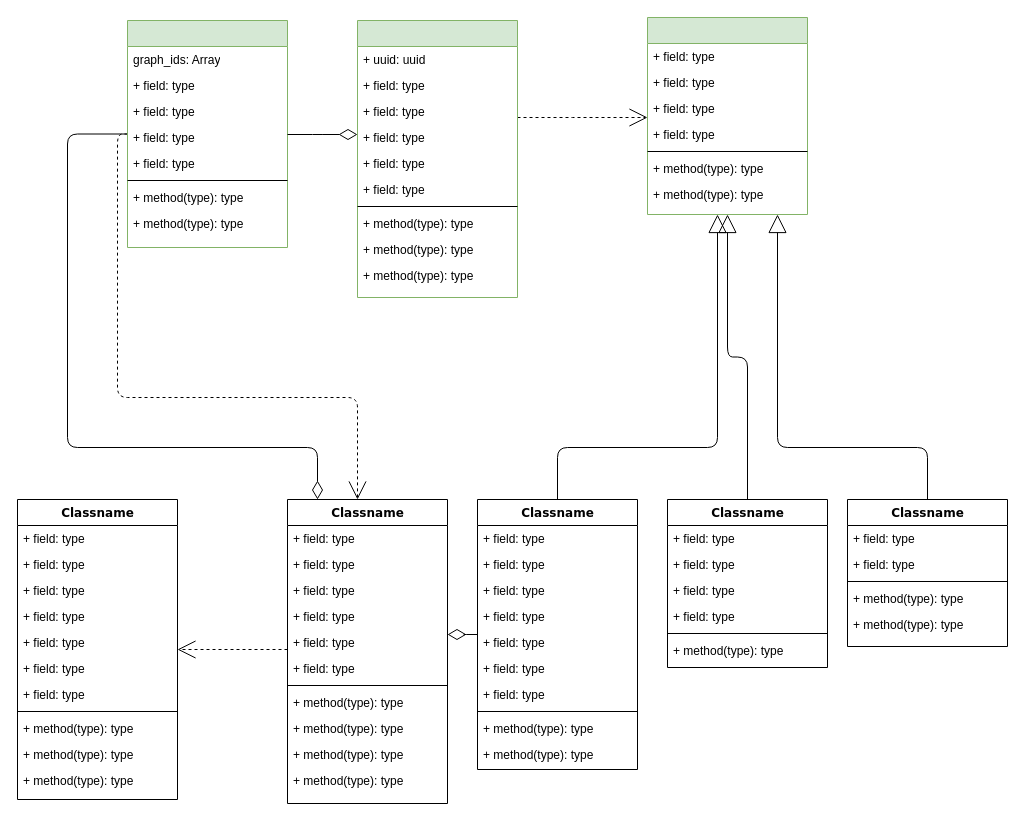
Image size: 1025x821. Some labels were removed from this diagram. The box of each missing label's shape, as (x1, y1, x2, y2) in pixels:
Graph Definitions: (126, 20, 288, 248)
Topic Hierachy: (646, 16, 808, 214)
Users: (356, 20, 518, 298)
